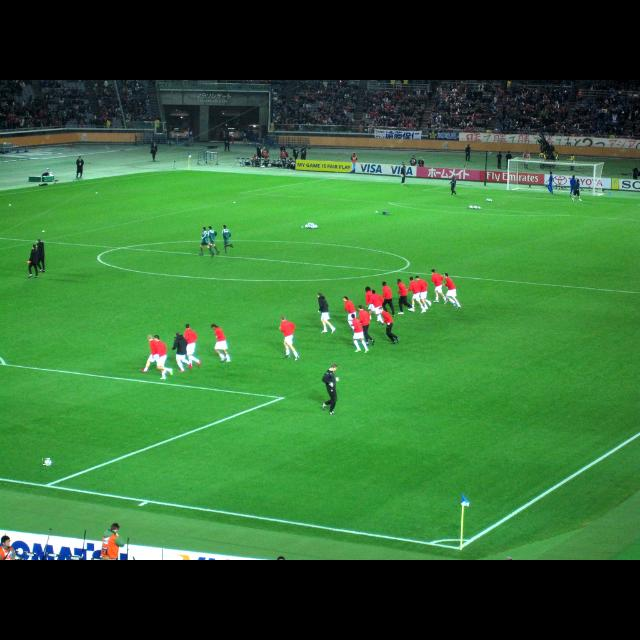Football: (42, 459, 50, 465)
